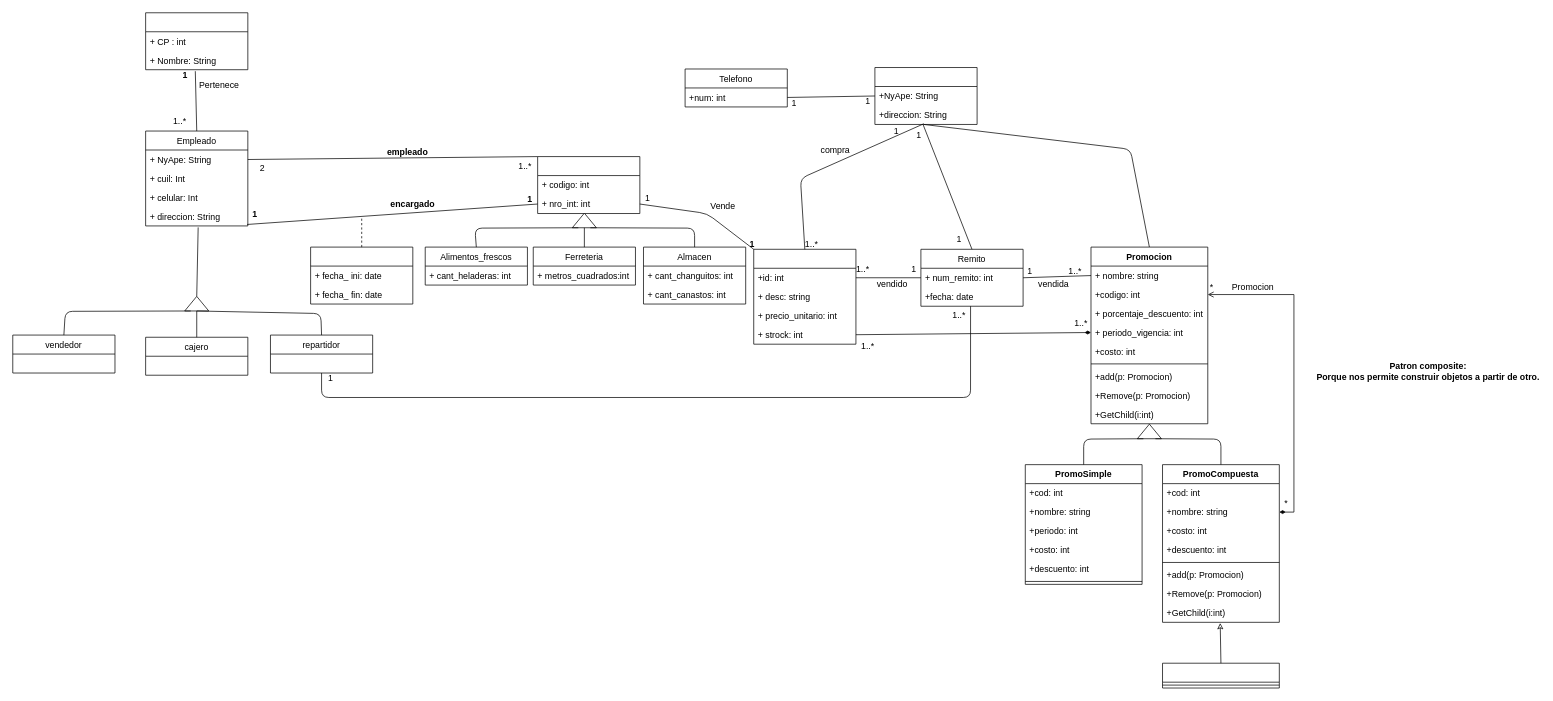
The diagram is 1553 pixels wide and 701 high, and some of its shapes have lost their labels. Each missing label, with the box of its shape:
Cleinte: (874, 67, 977, 124)
Localidad: (145, 12, 248, 70)
periodo: (310, 246, 413, 304)
Producto: (753, 249, 856, 344)
PromoConcreCompu: (1162, 662, 1279, 688)
seccion: (537, 156, 640, 214)
